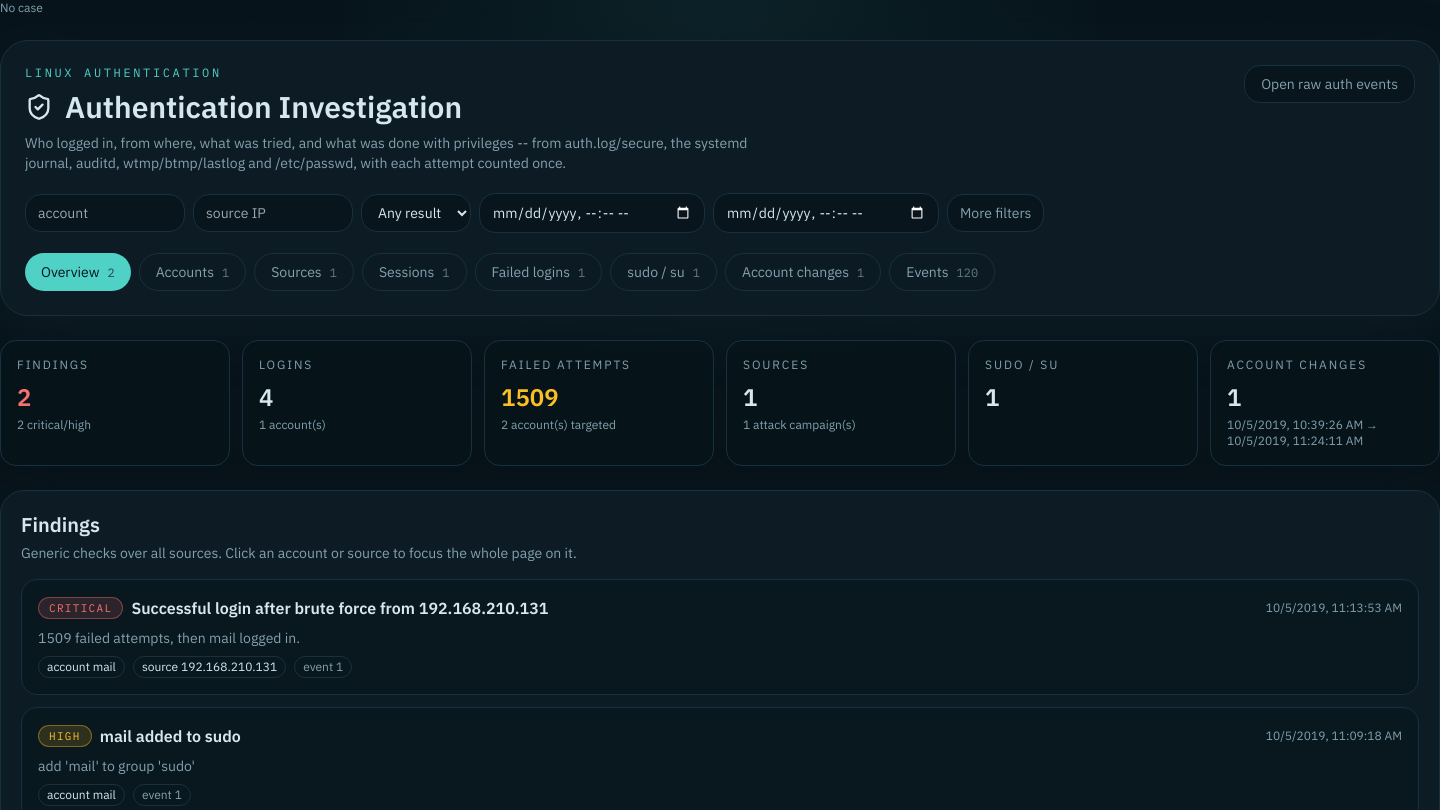
it: LinuxAuthenticationPage › shows each tab's own view
Click the tab "Accounts1": (192, 272) [139,253,246,291]
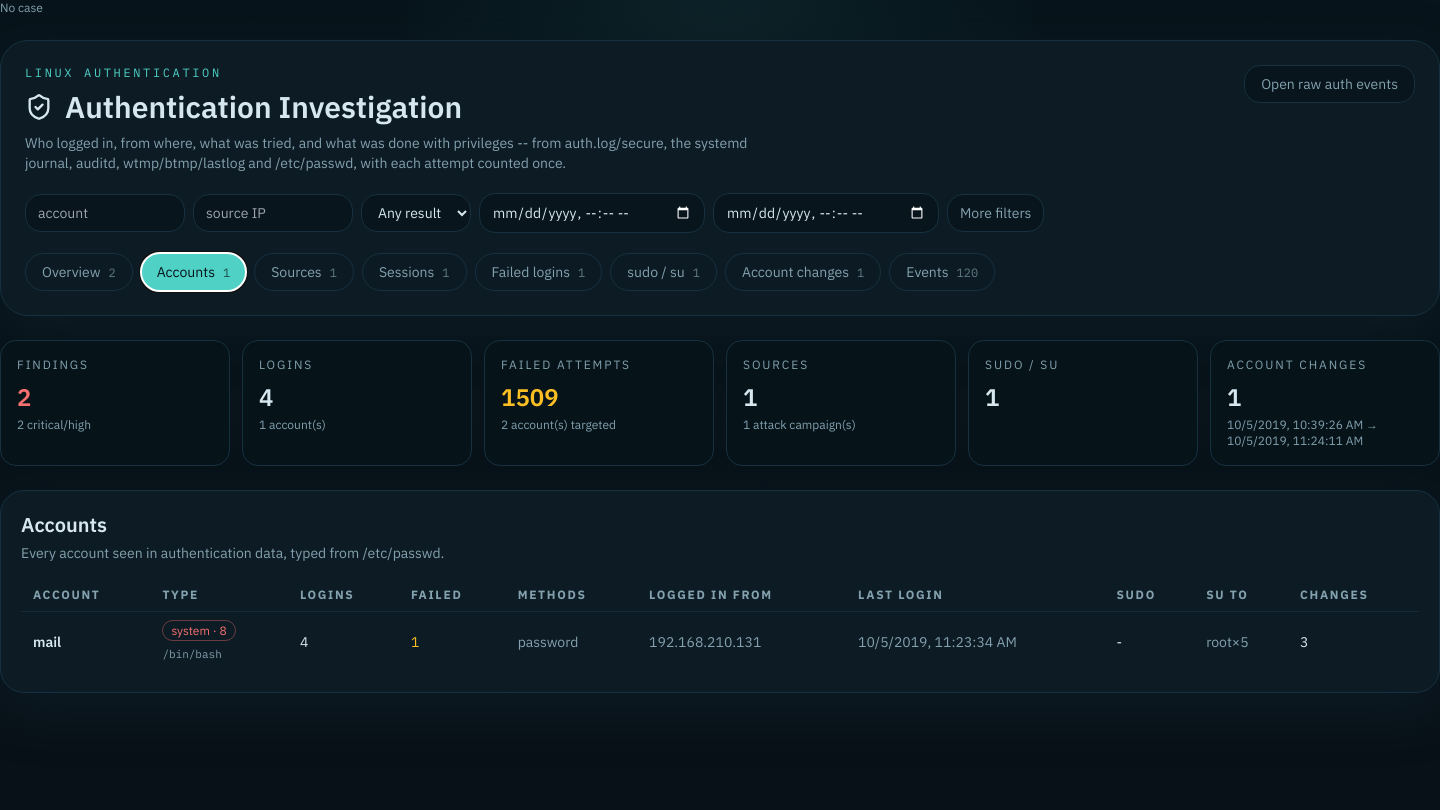
Expected: the text "system · 8" is shown, [162,620,236,641]
Click the tab "Sessions1": (414, 272) [362,253,467,291]
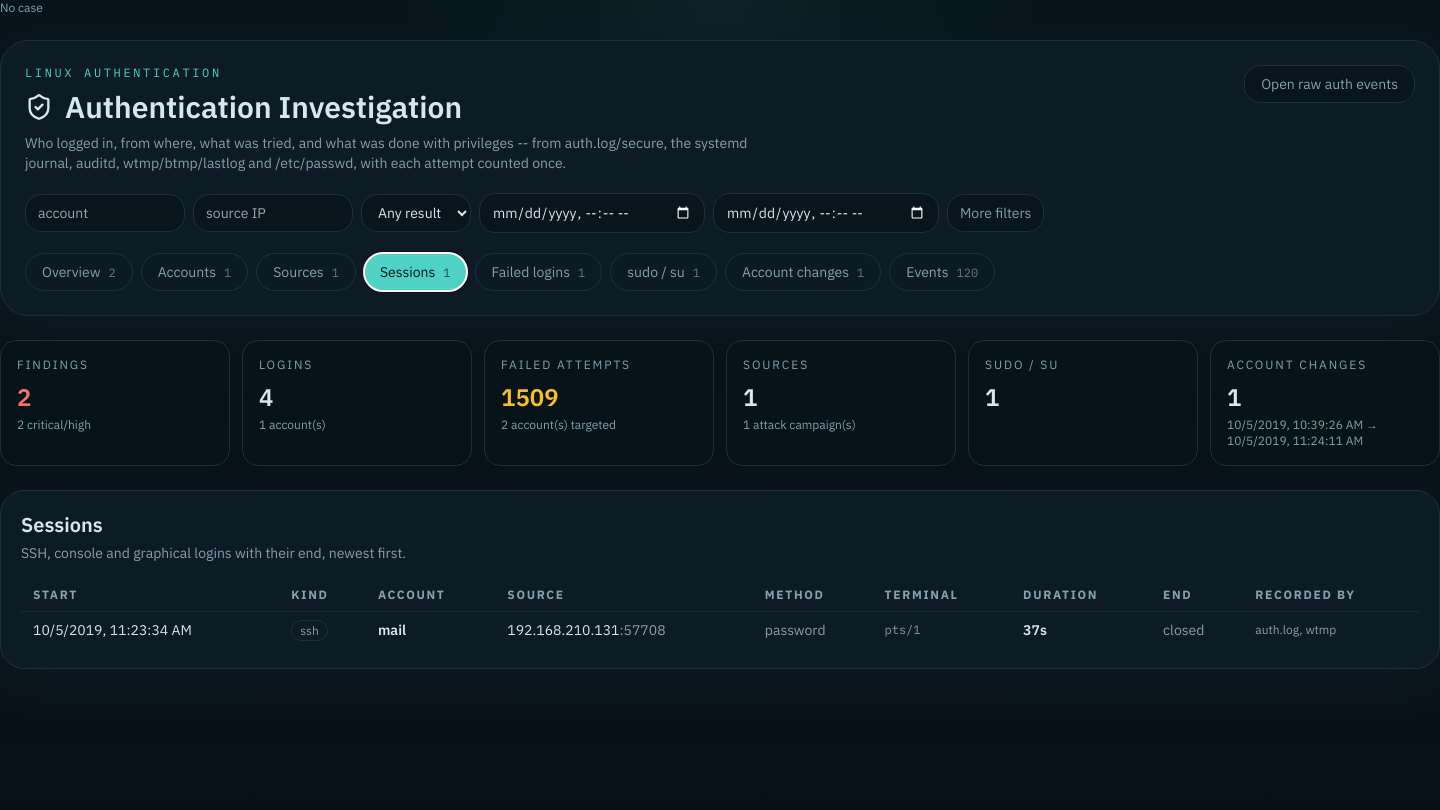
Expected: the text "37s" is shown, [1011,612,1151,648]
Click the tab "Failed logins1": (538, 272) [475,253,602,291]
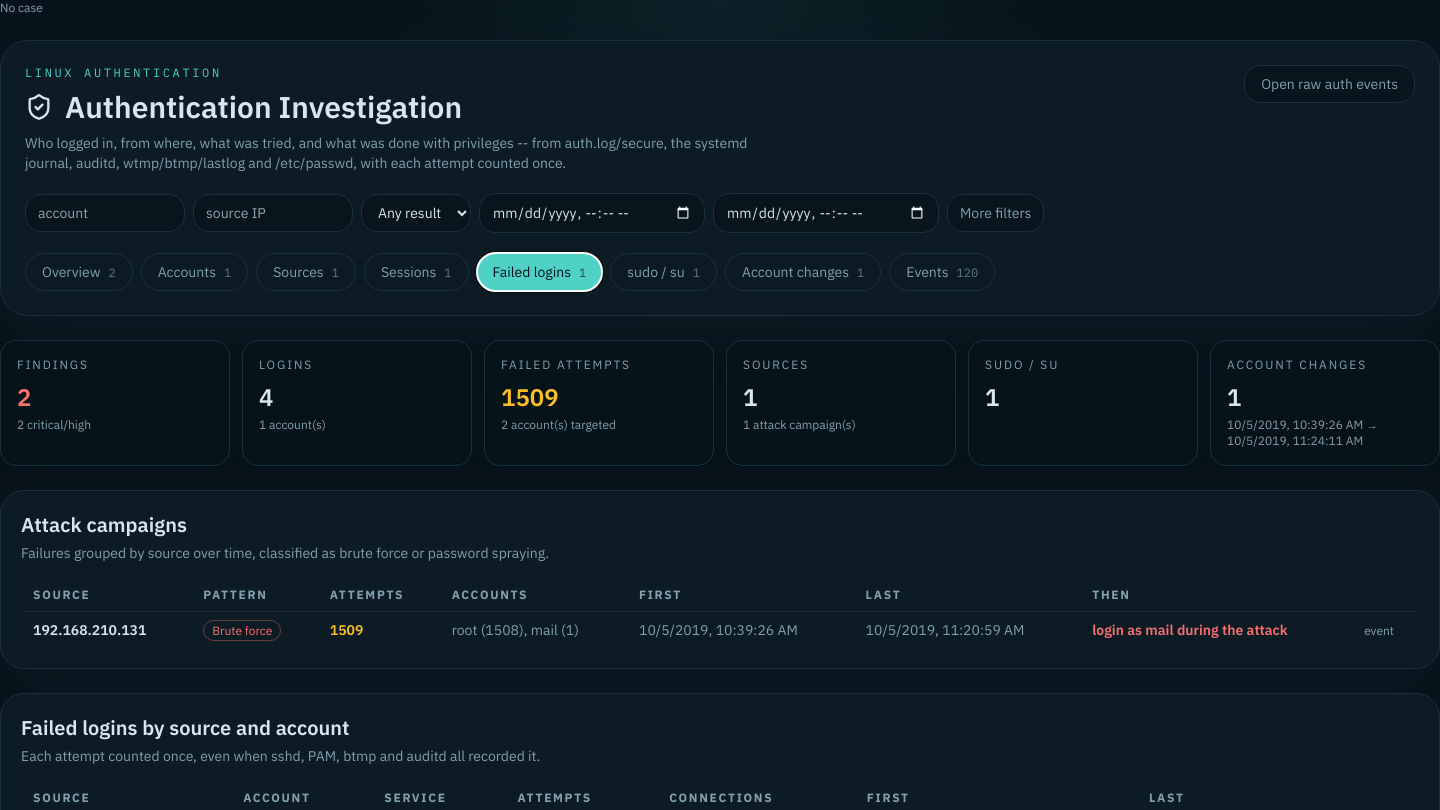
Expected: the text "login as mail during the attack" is shown, [1092,621,1288,639]
Click the tab "sudo / su1": (664, 272) [610,253,717,291]
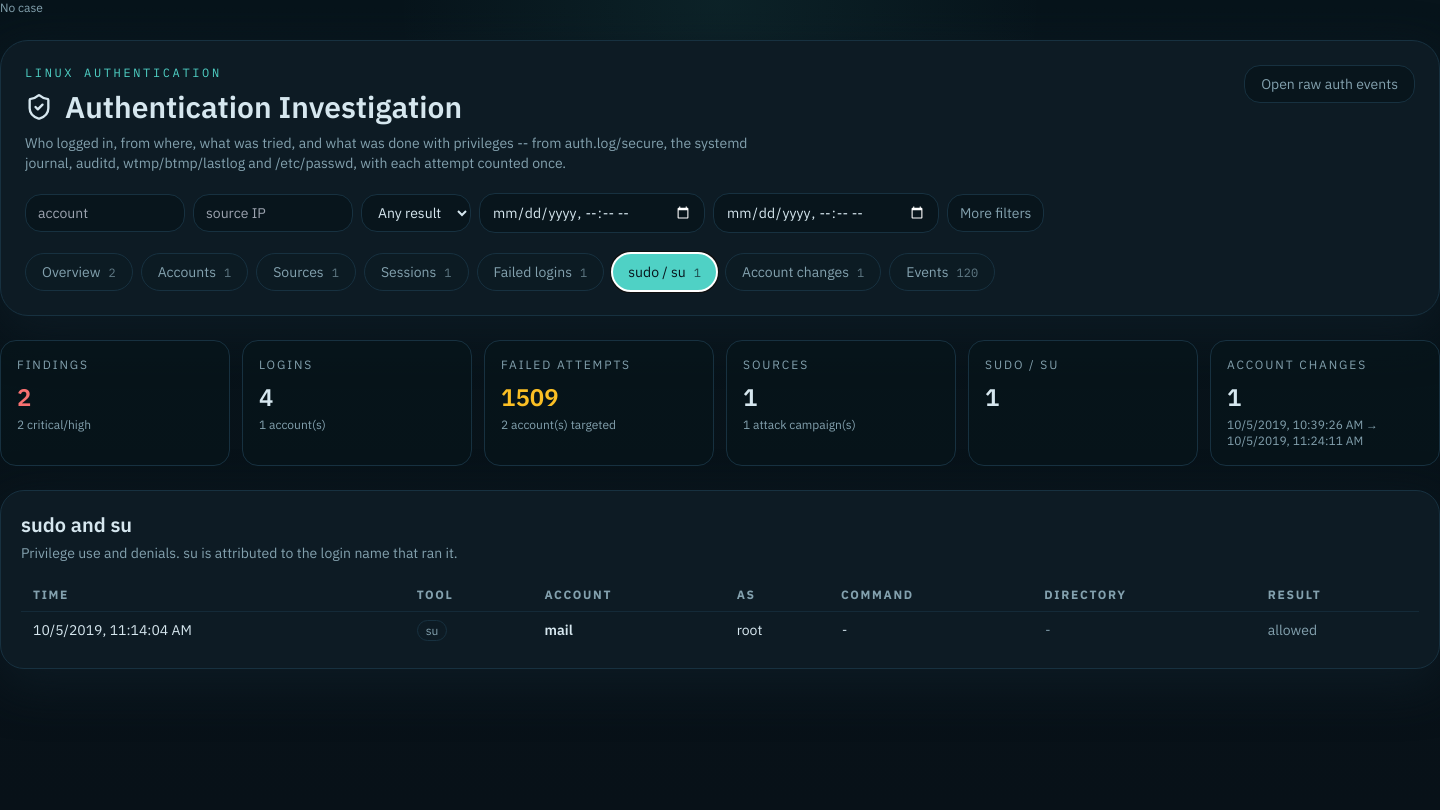
Expected: the text "root" is shown, [725,612,829,648]
Click the tab "Account changes1": (803, 272) [725,253,881,291]
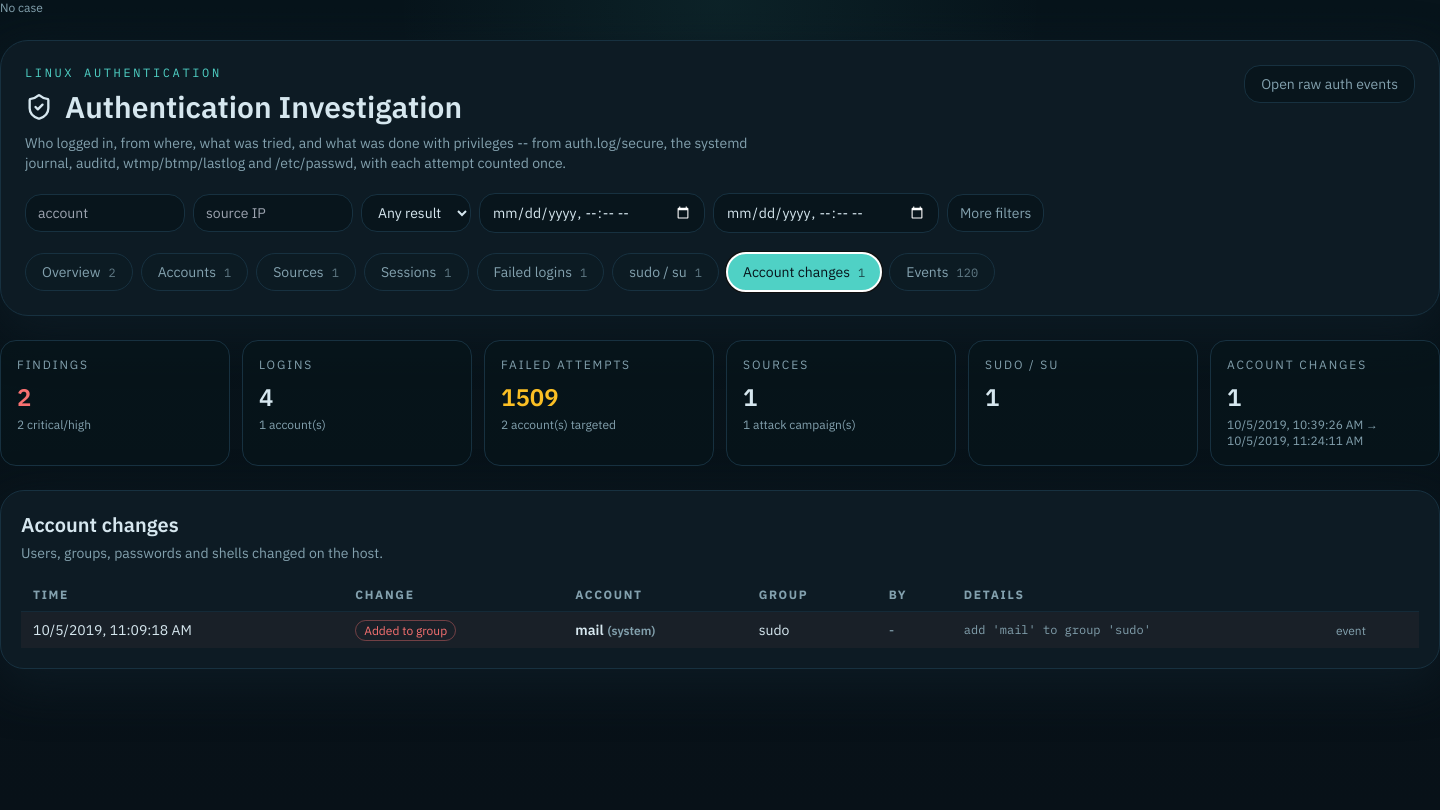
Expected: the text "Added to group" is shown, [355,620,456,641]
